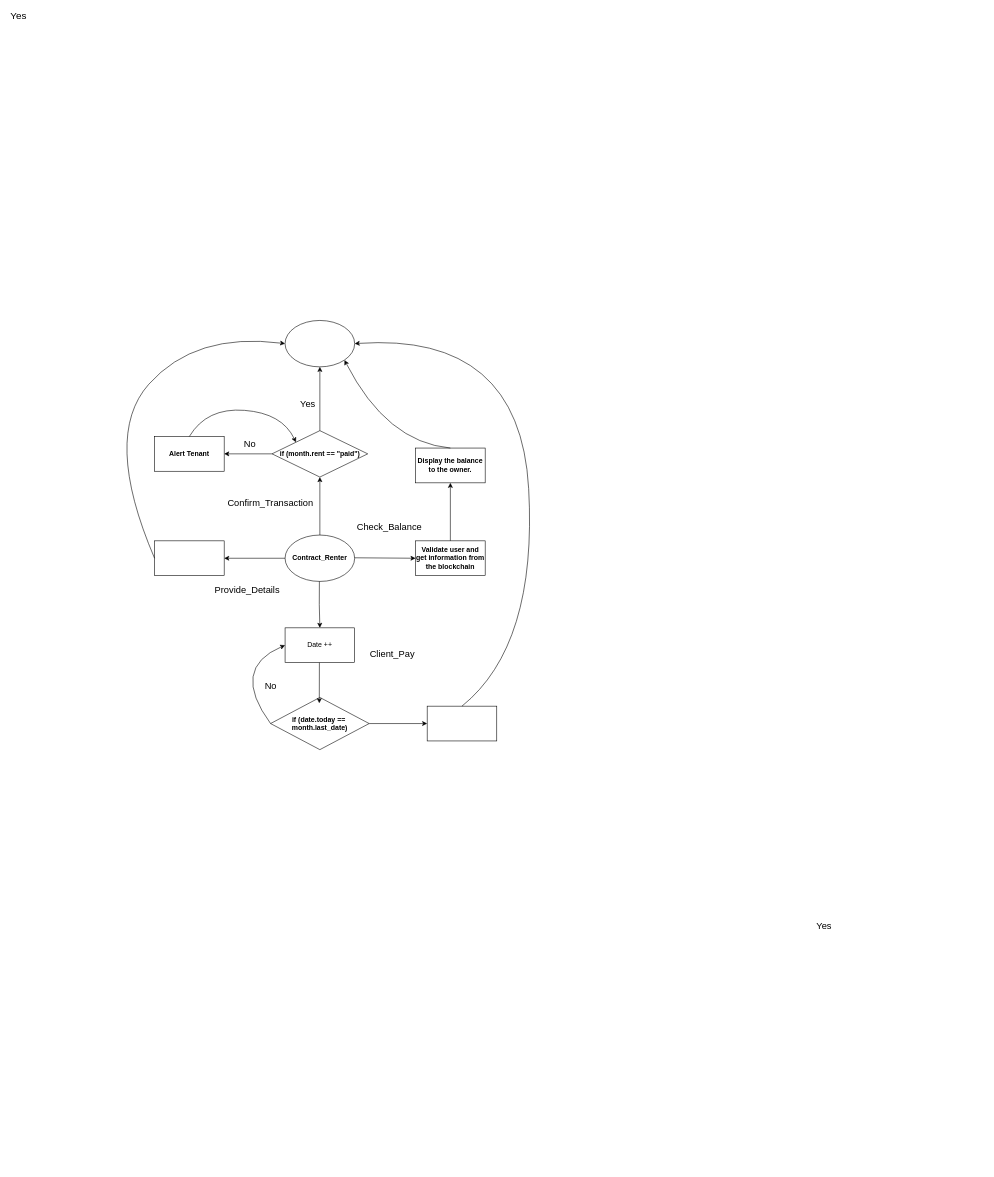
This 994x1177 diagram has some shape labels left out. Each missing label, with the centre of its shape:
"Fetch user data and display required details" belongs at (x=189, y=558).
"Stop" belongs at (x=319, y=343).
"Validate Owner and send money" belongs at (x=462, y=723).
